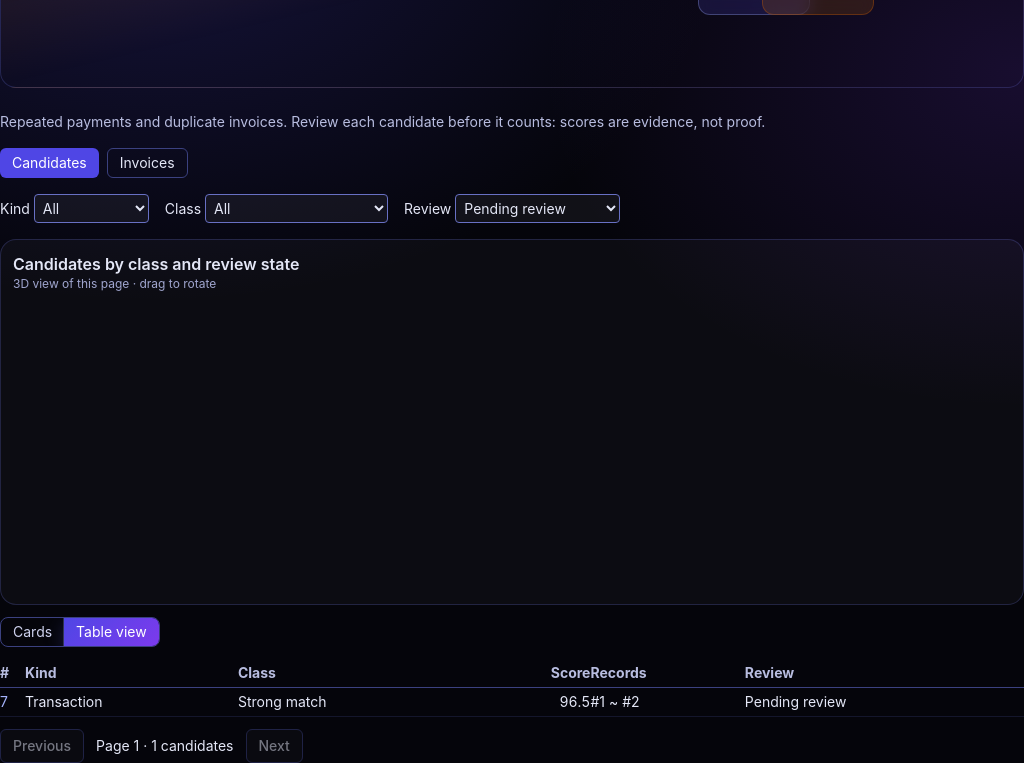
Test: DuplicatesPage › shows who reviewed an already-reviewed candidate
(page scrolled)
Click the button "7".
click(4, 702)  # box top-left (0, 692), bottom-right (8, 712)
(page scrolled)
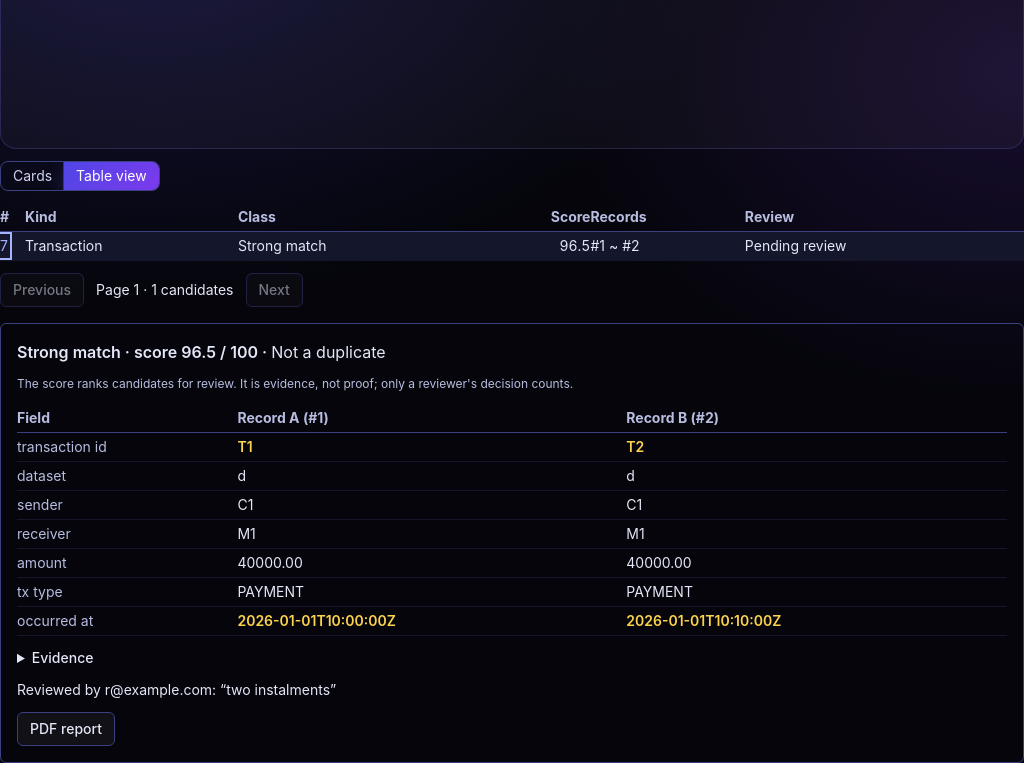
Now the text "Reviewed by r@example.com: “two instalments”" is shown, box top-left (17, 681), bottom-right (336, 698)
